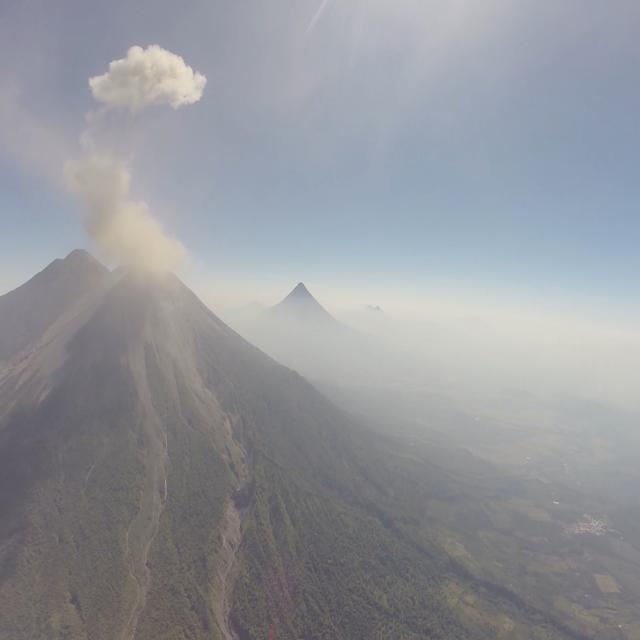Plume: (58, 134, 192, 283), (84, 39, 214, 121)
